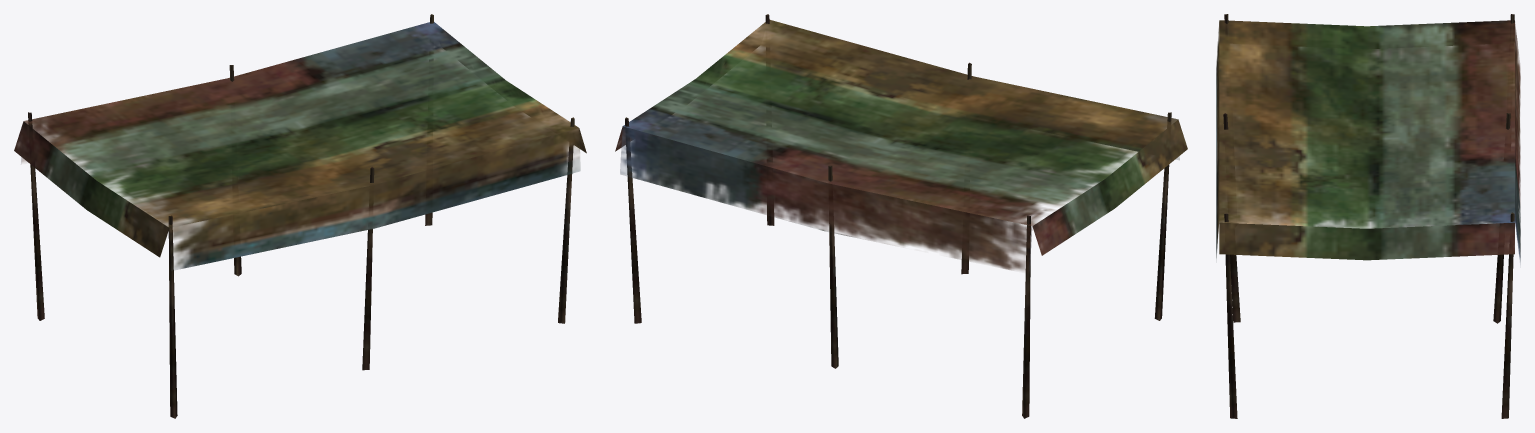
The model's file is Environment - Prop - Tent - PMTent01.glb.
3 renders of one model, left to right at view 1: azimuth 30°, elevation 25°; view 2: azimuth 150°, elevation 25°; view 3: azimuth 270°, elevation 25°, orthographic.
Parts seen in each view (by area): view 1: PMTENT01; view 2: PMTENT01; view 3: PMTENT01.
Part boxes in pixels (x1=…): PMTENT01: x1=14, y1=14, x2=586, y2=418; PMTENT01: x1=615, y1=14, x2=1187, y2=418; PMTENT01: x1=1216, y1=14, x2=1520, y2=418.
Size of the model in its own units: 37.99 by 17.48 by 23.16.
Materials: 1 (1 with a texture image).
